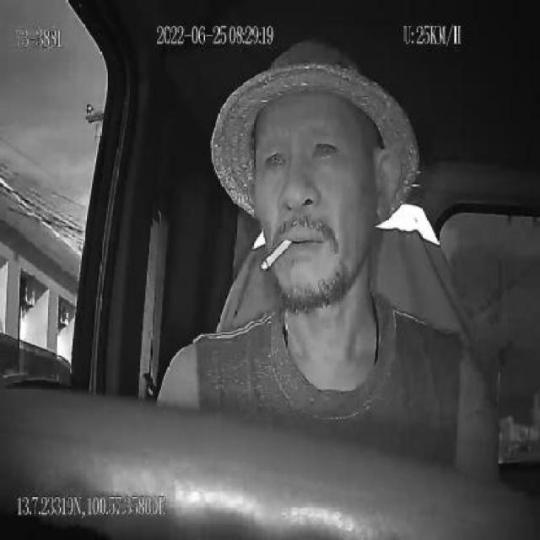smoking: (261, 237, 291, 272)
